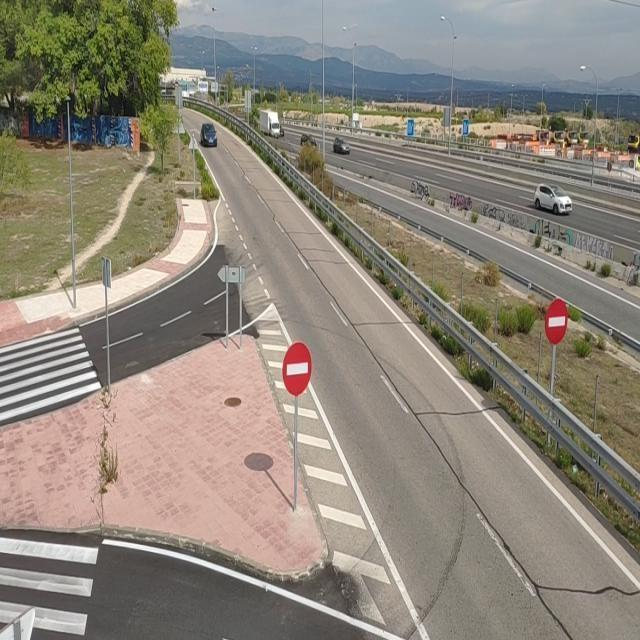Car: (534, 183, 573, 216), (200, 122, 219, 148), (332, 136, 352, 155)
Truck: (258, 108, 281, 140)
